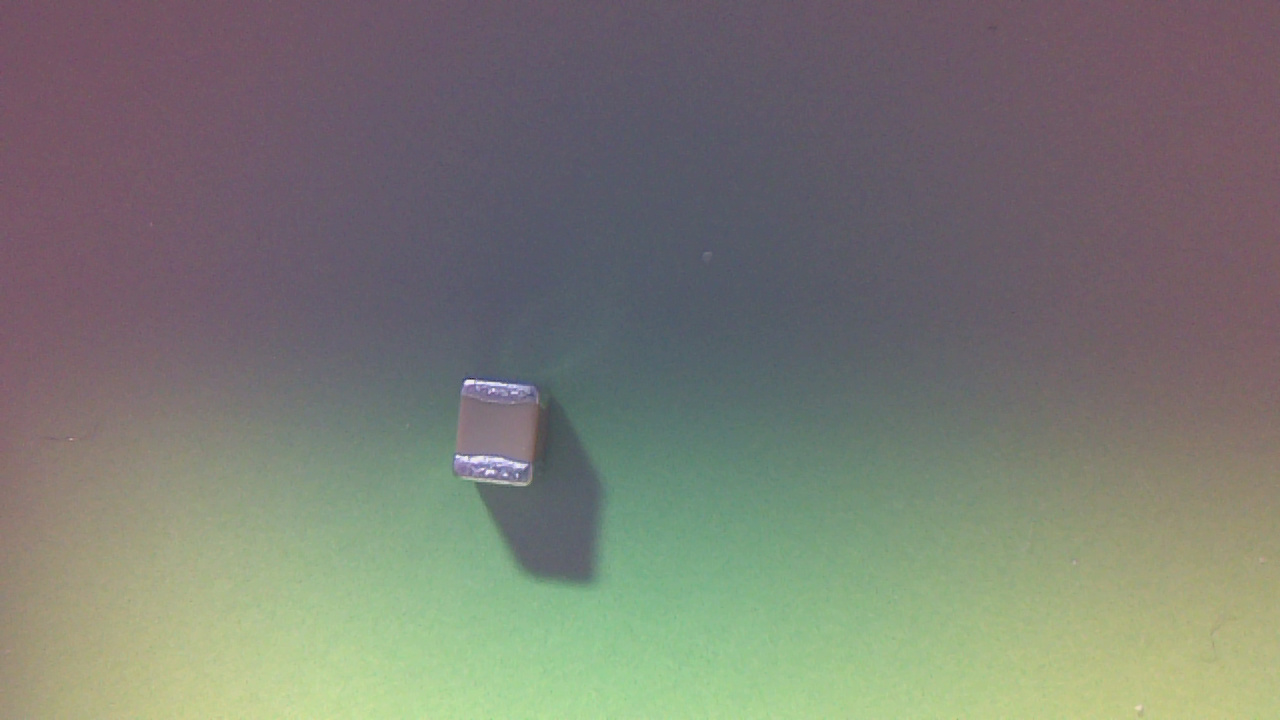Condensator: (454, 379, 548, 499)
